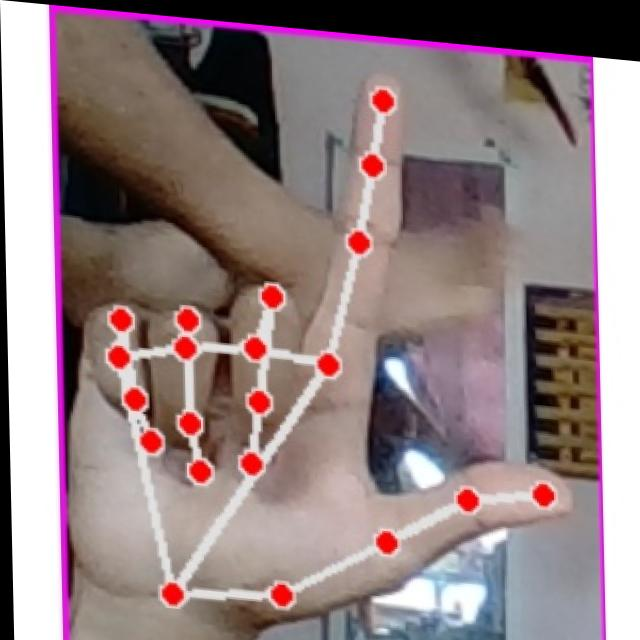L: (60, 26, 583, 640)
